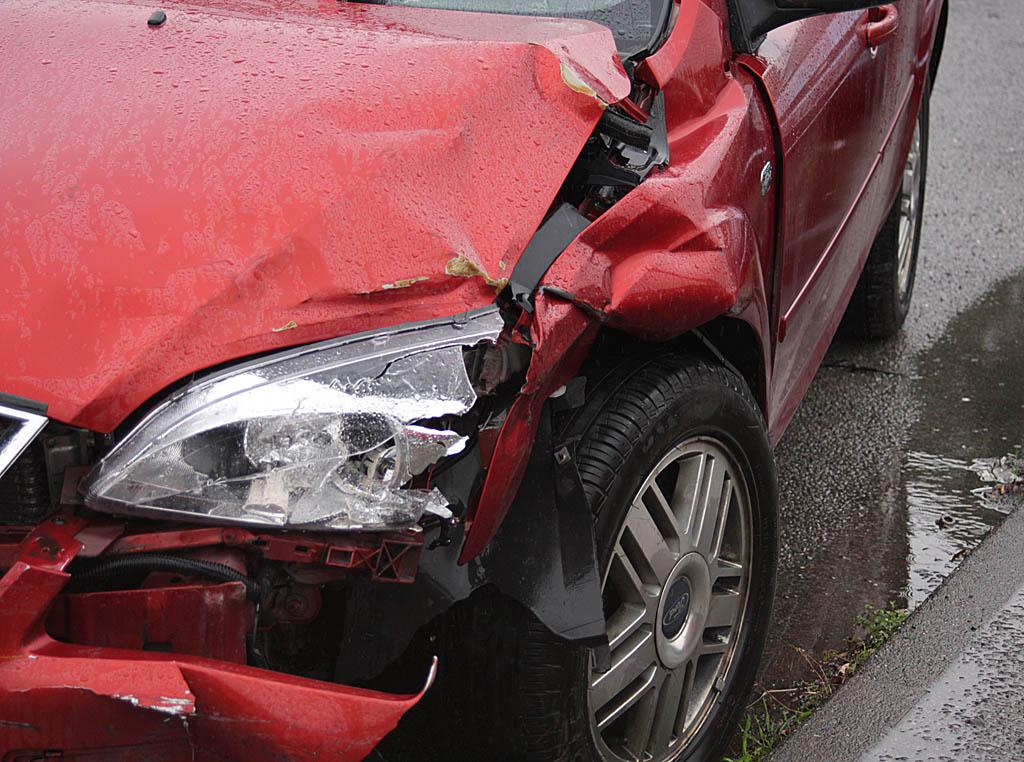Headlight-Damage: (56, 308, 545, 618)
bonnet-dent: (0, 0, 582, 355)
fender-dent: (553, 85, 817, 440)
